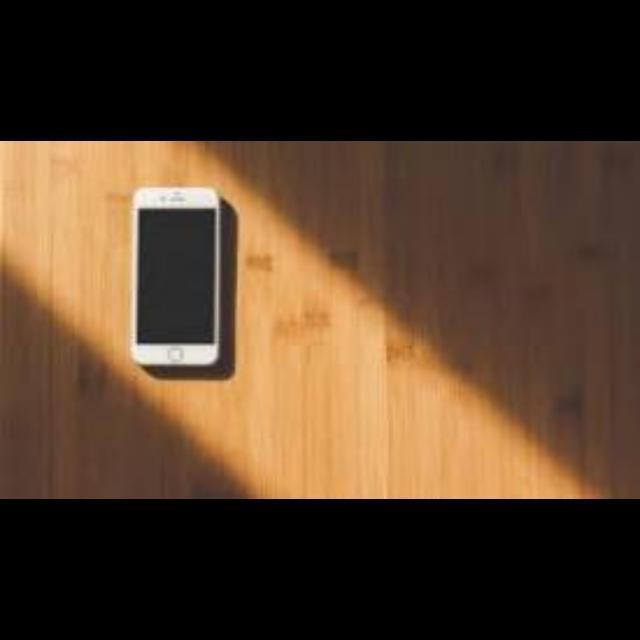PhoneUse: (132, 188, 222, 368)
